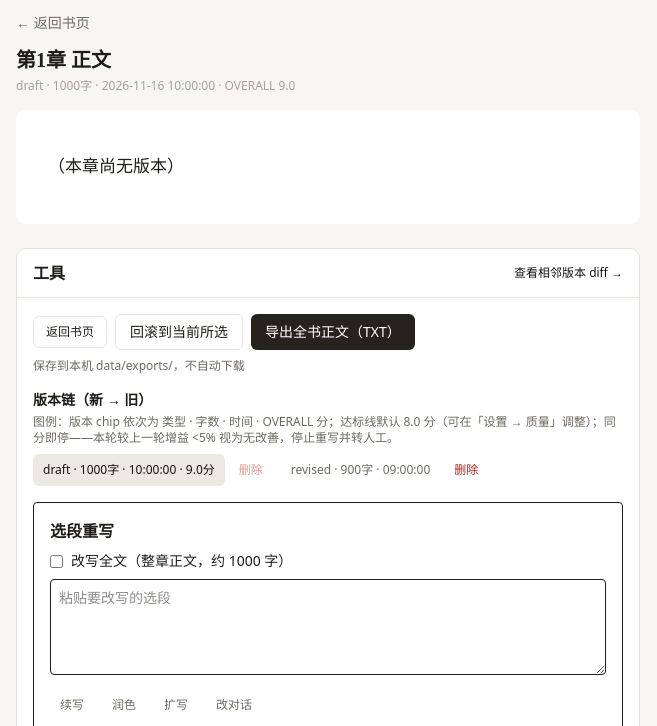
Test: ChapterReaderPage › 删除被 409 拒绝时展示服务端 error 文案（apiErrorText 还原）
Click the 2nd button "删除" at [466, 470], box x1=444 y1=454 x2=488 y2=486
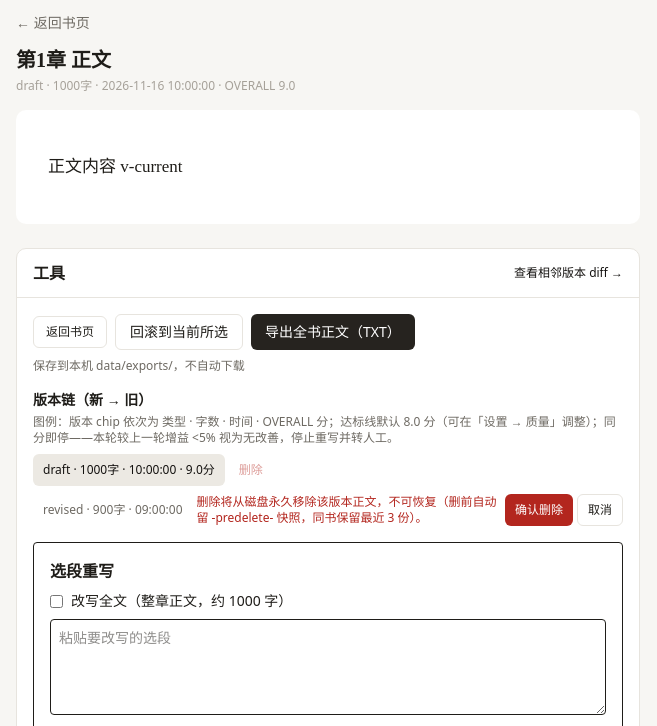
Click the button "确认删除" at [539, 510], box x1=505 y1=494 x2=573 y2=526
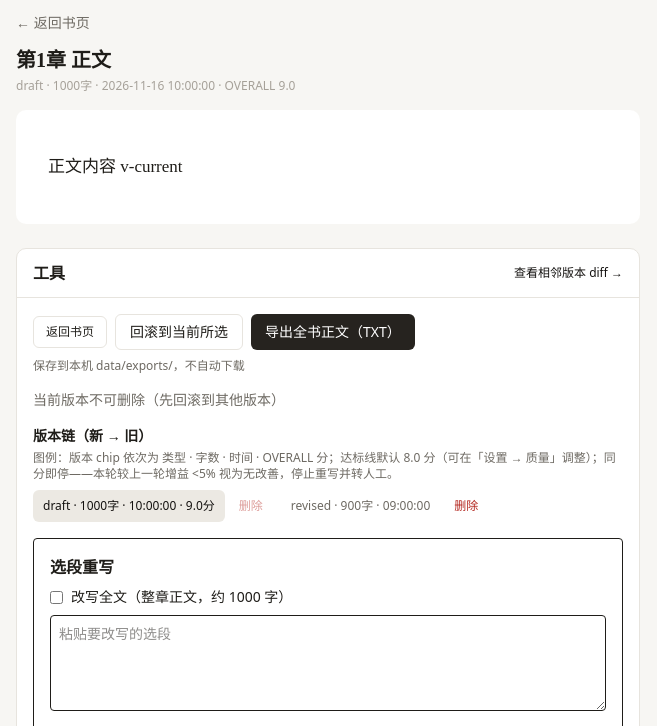
Expected: the text "当前版本不可删除（先回滚到其他版本）" is shown, x1=33 y1=390 x2=285 y2=409
